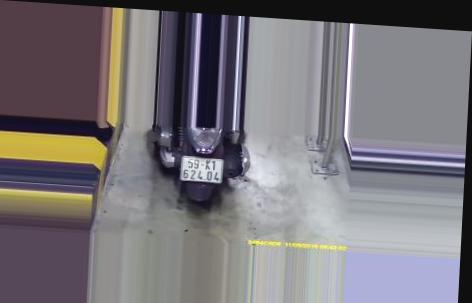License_Plate: (177, 150, 226, 188)
